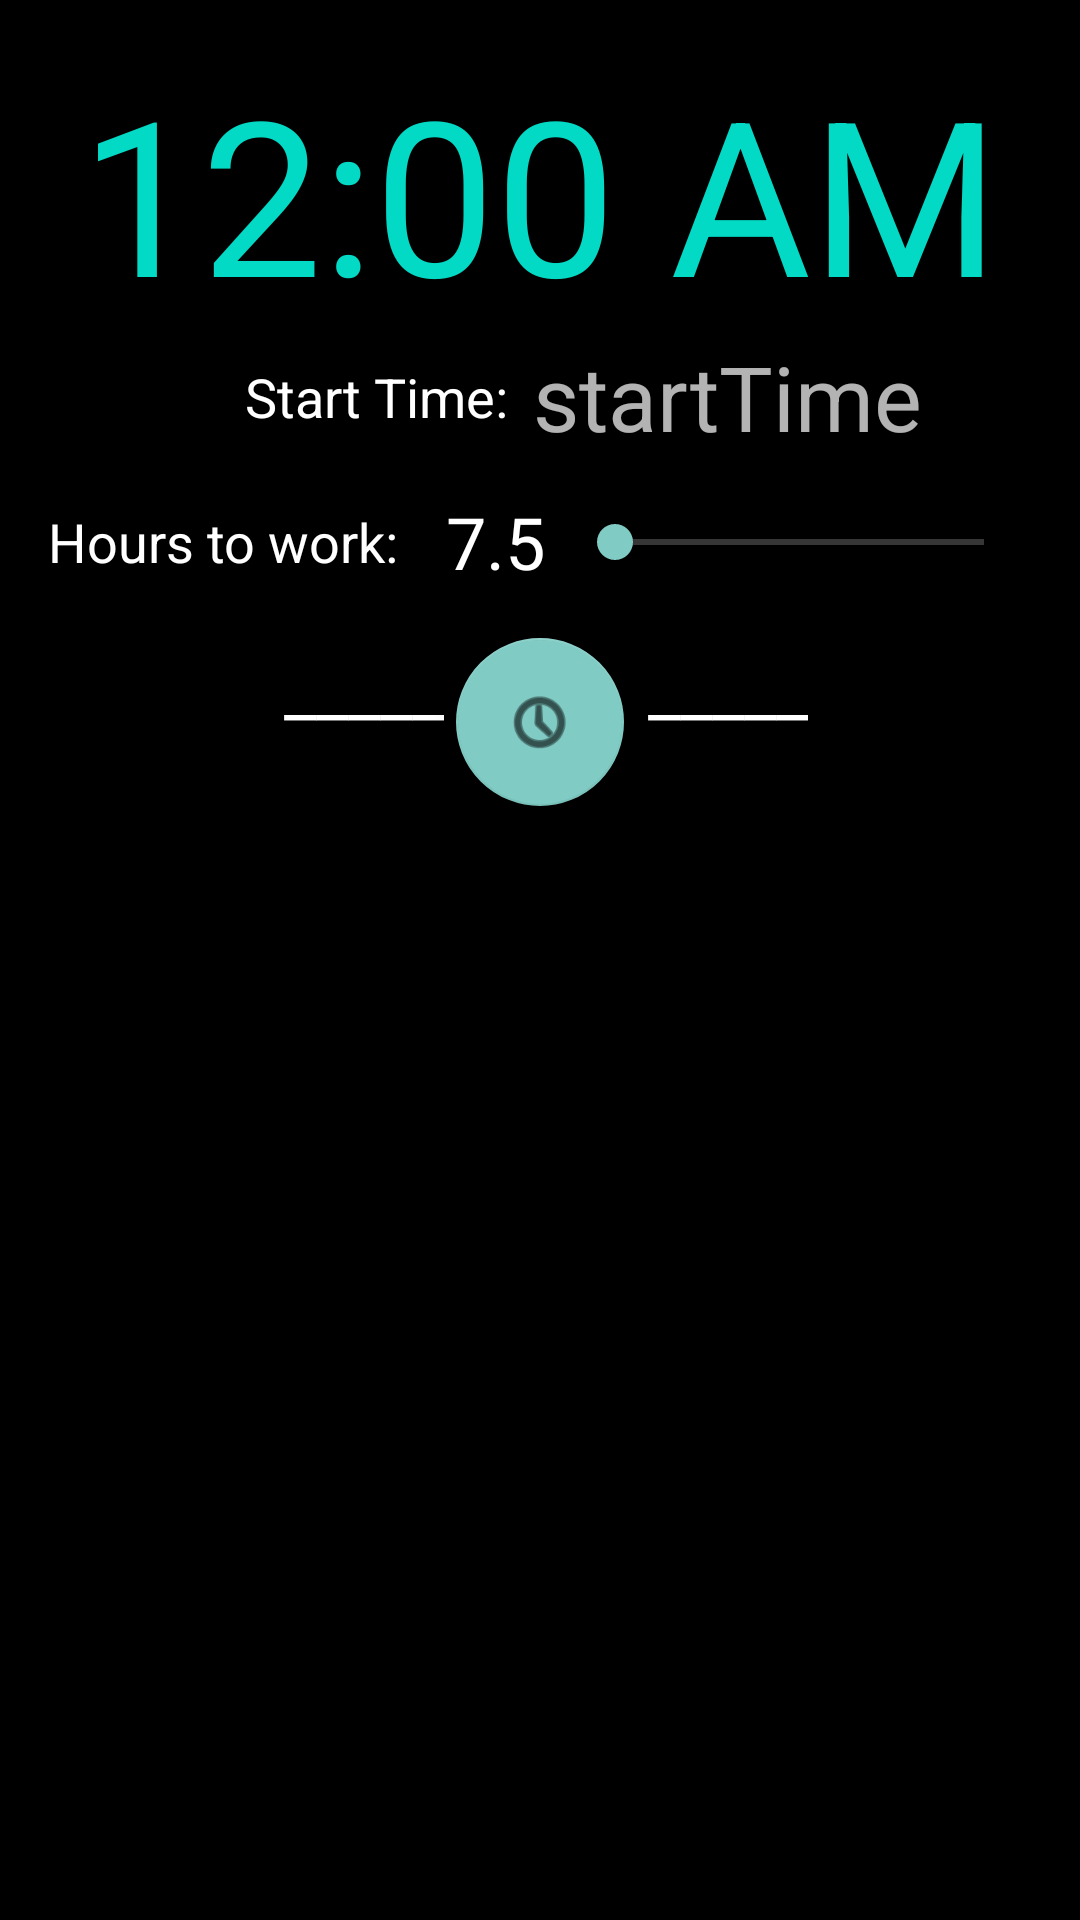

Named icons in this screenshot (1080×1920) and their centers, point (x, y):
recent history: point (540, 722)
